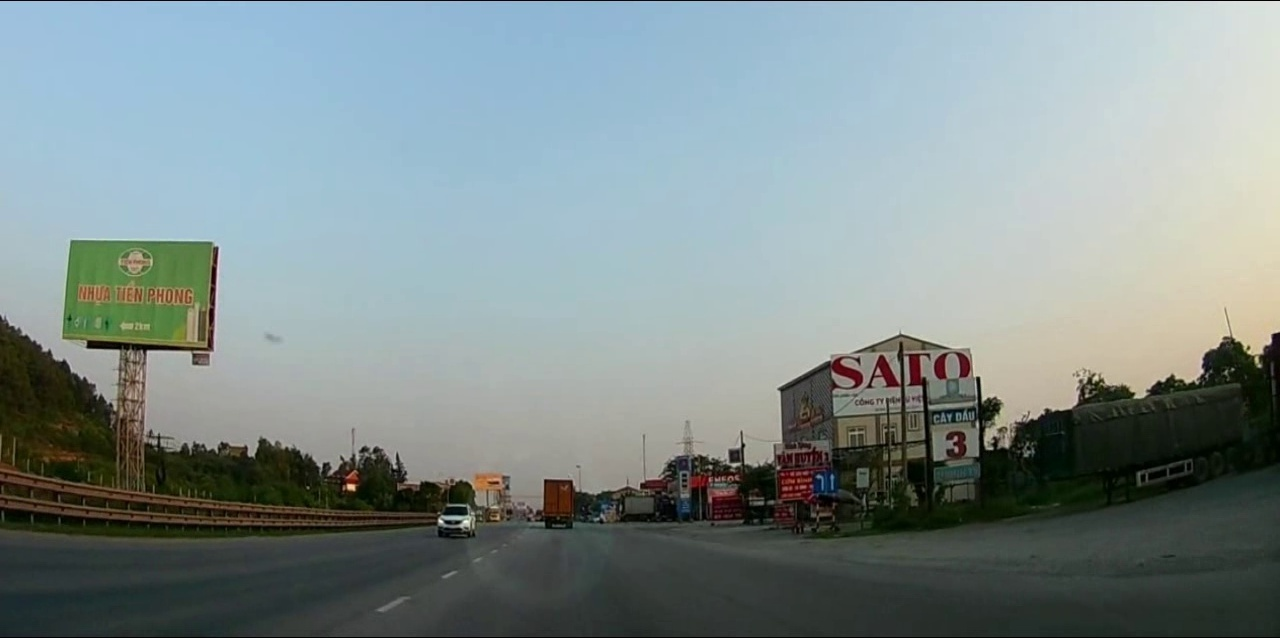Bien khac: (814, 470, 836, 495)
